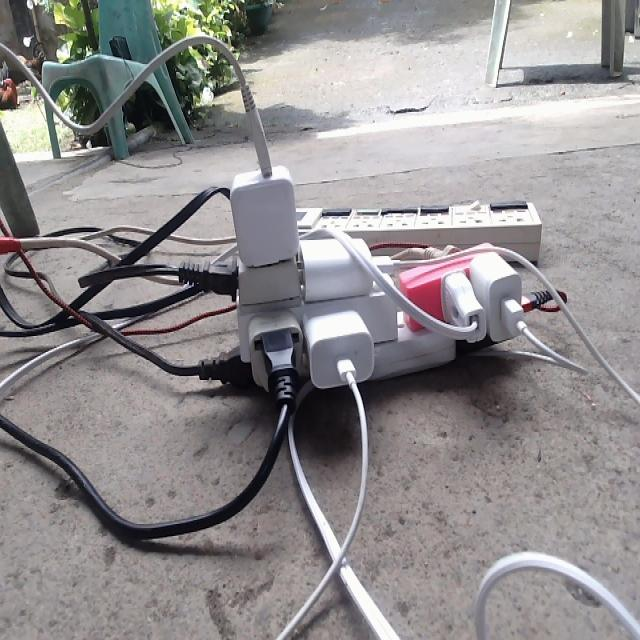-: (201, 235, 524, 400)
